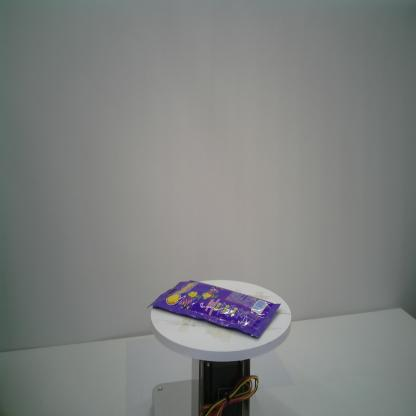Candy: (147, 280, 281, 338)
